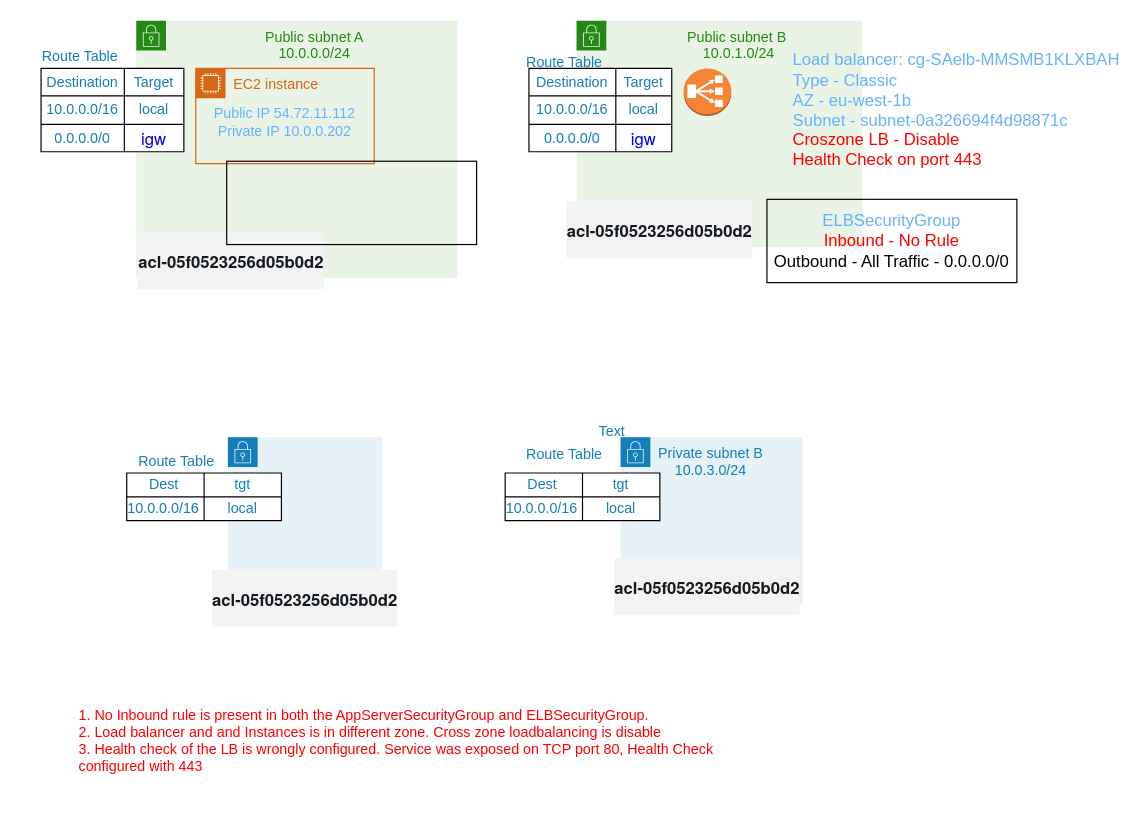
This 1144x815 diagram has some shape labels left out. The shapes that lost their labels are listed below. From the top down, each one's centre as x and y in pixels, then its label:
At (351,202): "AppServerSecurityGroup Inbound - No Rule Outbound - All Traffic - 0.0.0.0/0".
At (305,514): "Private subnet A 10.0.2.0/24".
